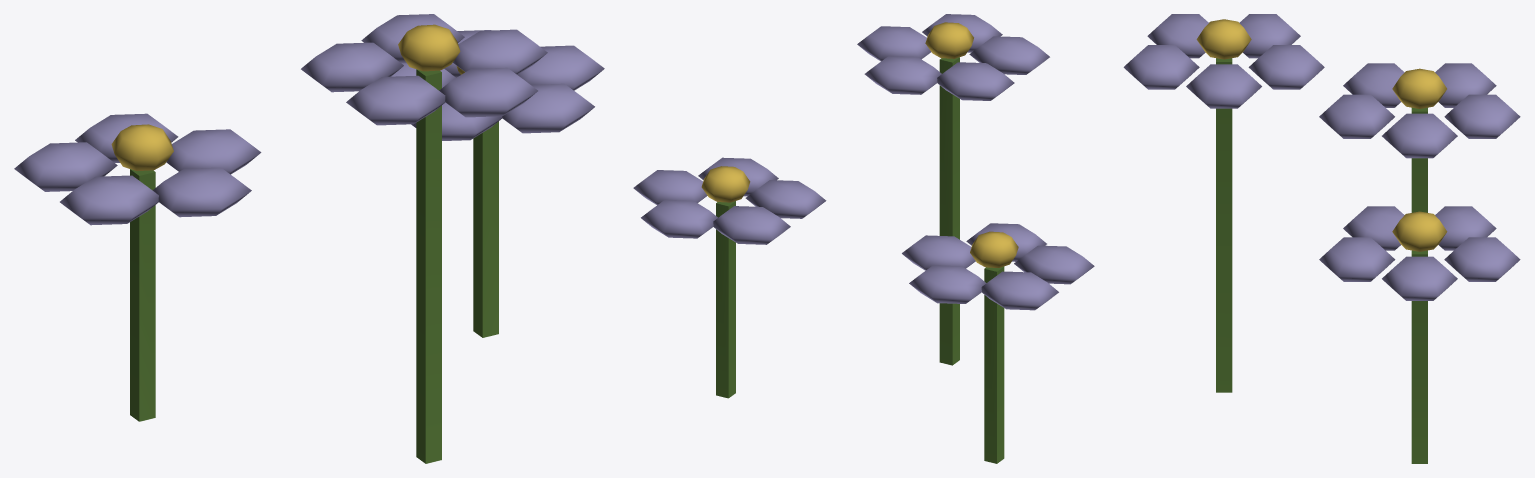
Rendered from blue_flower.glb.
The picture shows the model from 3 angles, left to right: view 1: azimuth 30°, elevation 25°; view 2: azimuth 150°, elevation 25°; view 3: azimuth 270°, elevation 25°; orthographic projection. The views are drawn at different scales.
Visible parts, largest first — view 1: blue_flower; view 2: blue_flower; view 3: blue_flower.
Part boxes in pixels (x1,y1,x2,y2): blue_flower: (14,14,604,463); blue_flower: (633,14,1094,463); blue_flower: (1123,14,1520,463).
Bounding box in the file's own units: 0.302 × 0.2275 × 0.2234.
